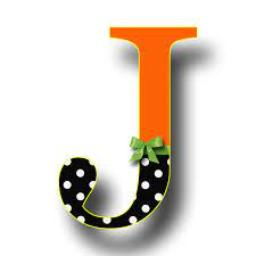j: (51, 12, 207, 242)
